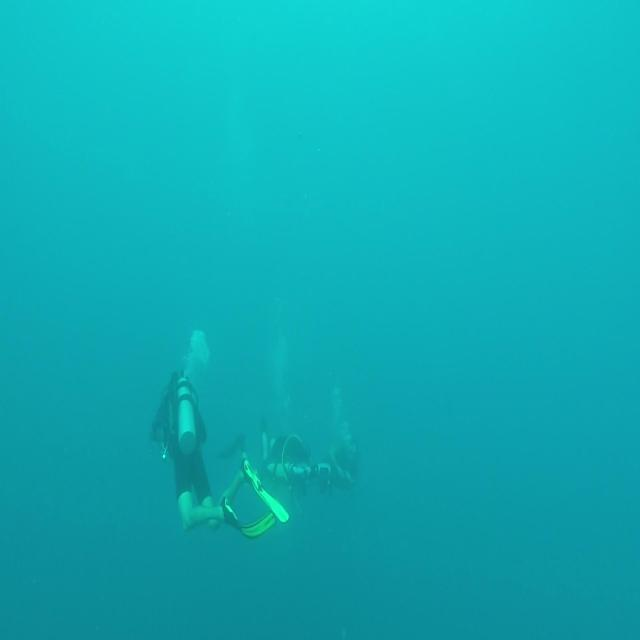human: (150, 368, 225, 533), (259, 416, 332, 498)
